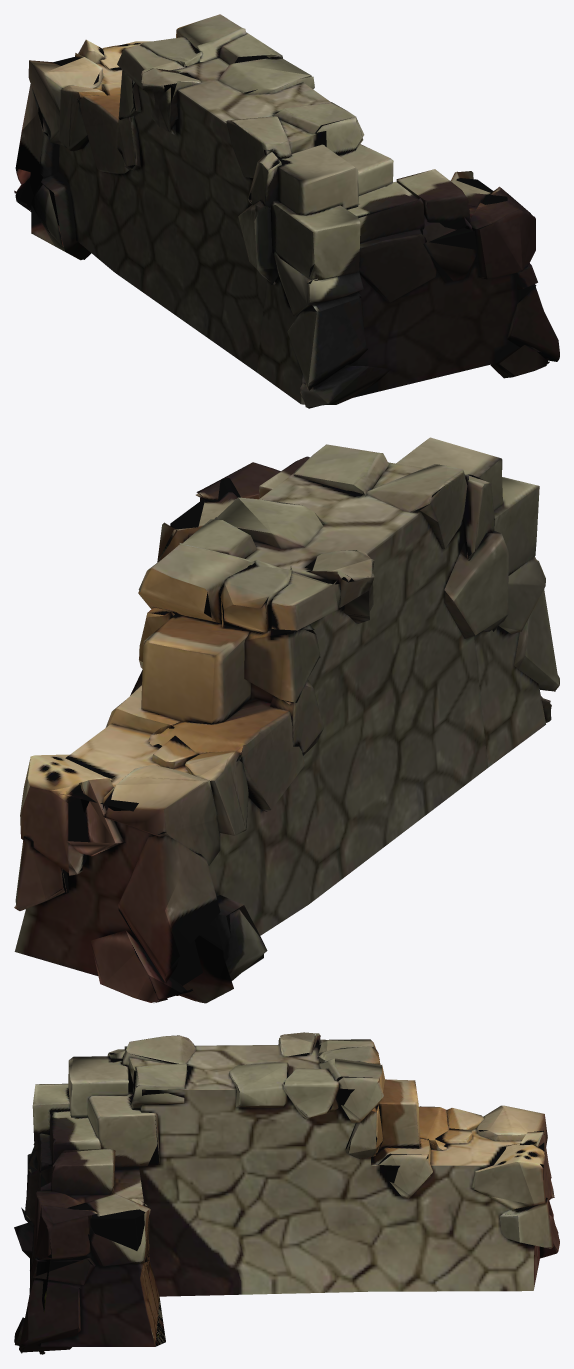
The model's file is RockPack008.fbx.
The picture shows the model from 3 angles, top to bottom: view 1: azimuth 30°, elevation 25°; view 2: azimuth 150°, elevation 25°; view 3: azimuth 270°, elevation 25°; orthographic projection. The views are drawn at different scales.
Parts seen in each view (by area): view 1: RockPack008; view 2: RockPack008; view 3: RockPack008.
Part boxes in pixels (<box>): RockPack008: <box>14,14,559,408</box>; RockPack008: <box>14,437,559,1003</box>; RockPack008: <box>14,1032,559,1354</box>.
Size of the model in its own units: 593 by 559 by 1152.
Materials: 1 (1 with a texture image).
